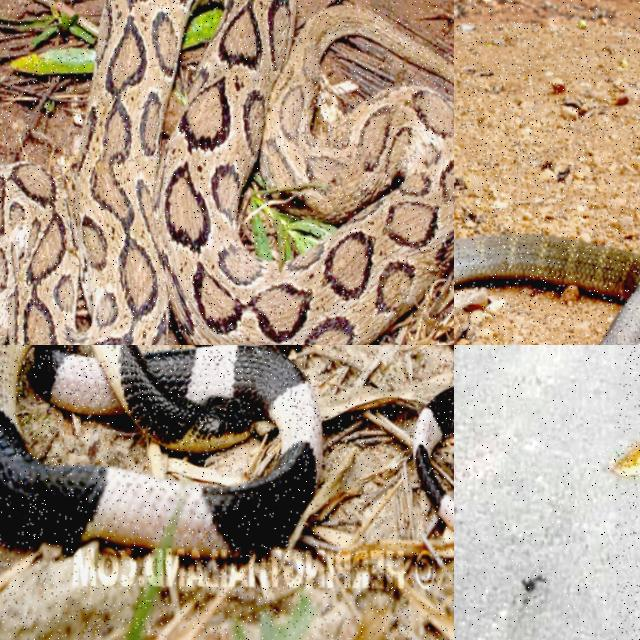Bungarus candidus: (0, 345, 321, 554)
Daboia siamensis: (0, 0, 453, 344)
Malayopython reticulatus: (614, 444, 639, 475)
Ophiophagus hannah: (454, 235, 639, 344)
